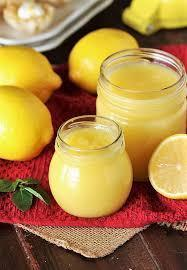lemon: (68, 29, 142, 94), (0, 85, 54, 160), (0, 45, 61, 104), (148, 134, 187, 199)
